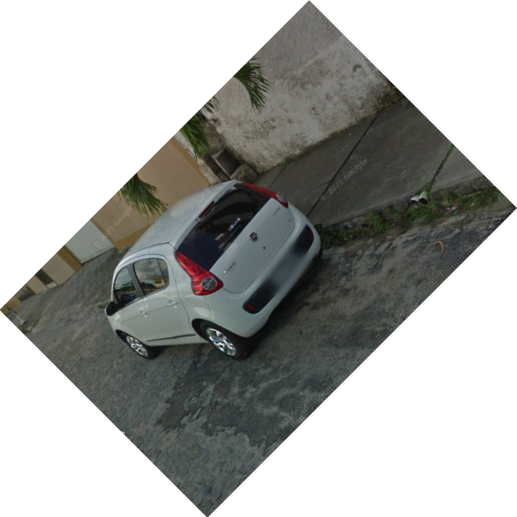car: (102, 176, 329, 366)
